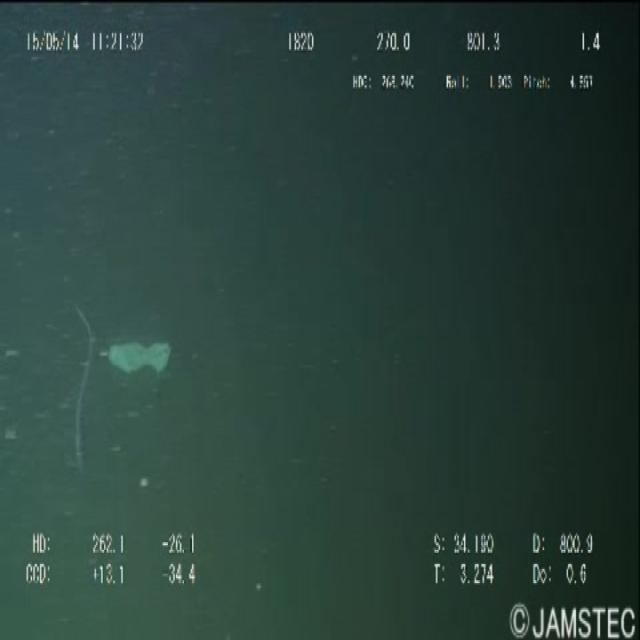Plastic: (98, 322, 176, 378)
Wood: (64, 283, 97, 488)
